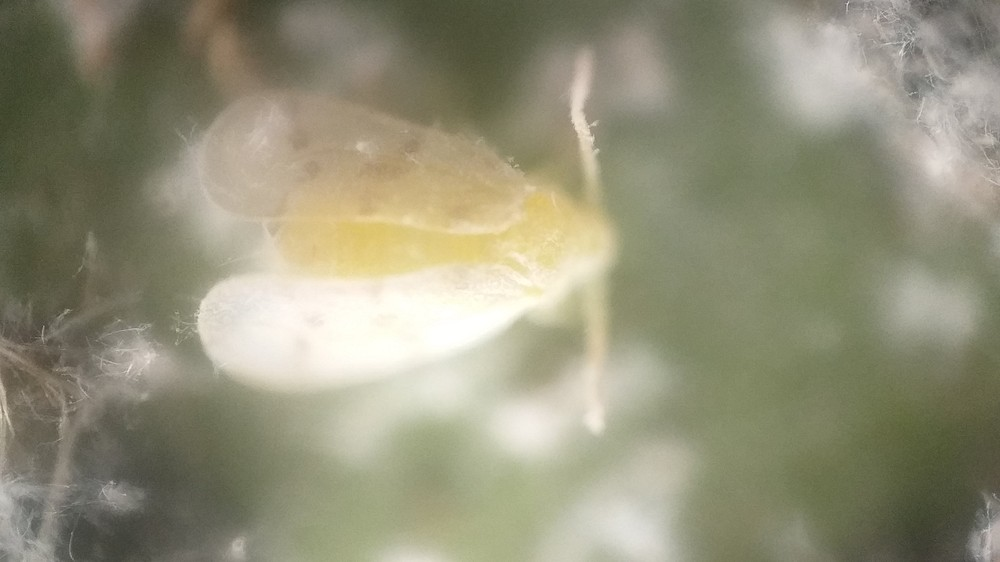Mosca Blanca: (178, 48, 650, 465)
